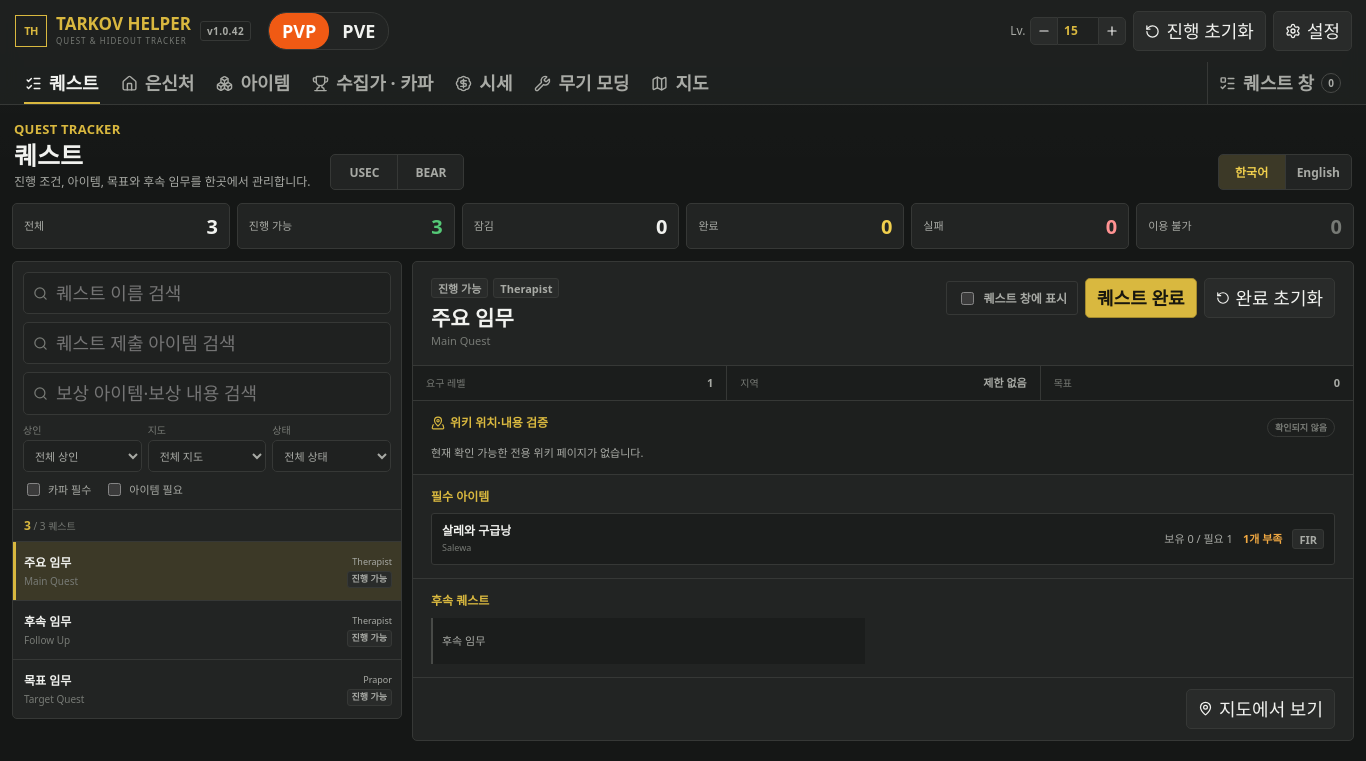
App related navigation › opens the exact non-default hideout station and source level
Click the tab "아이템" at [253, 83], box [205,62,301,104]
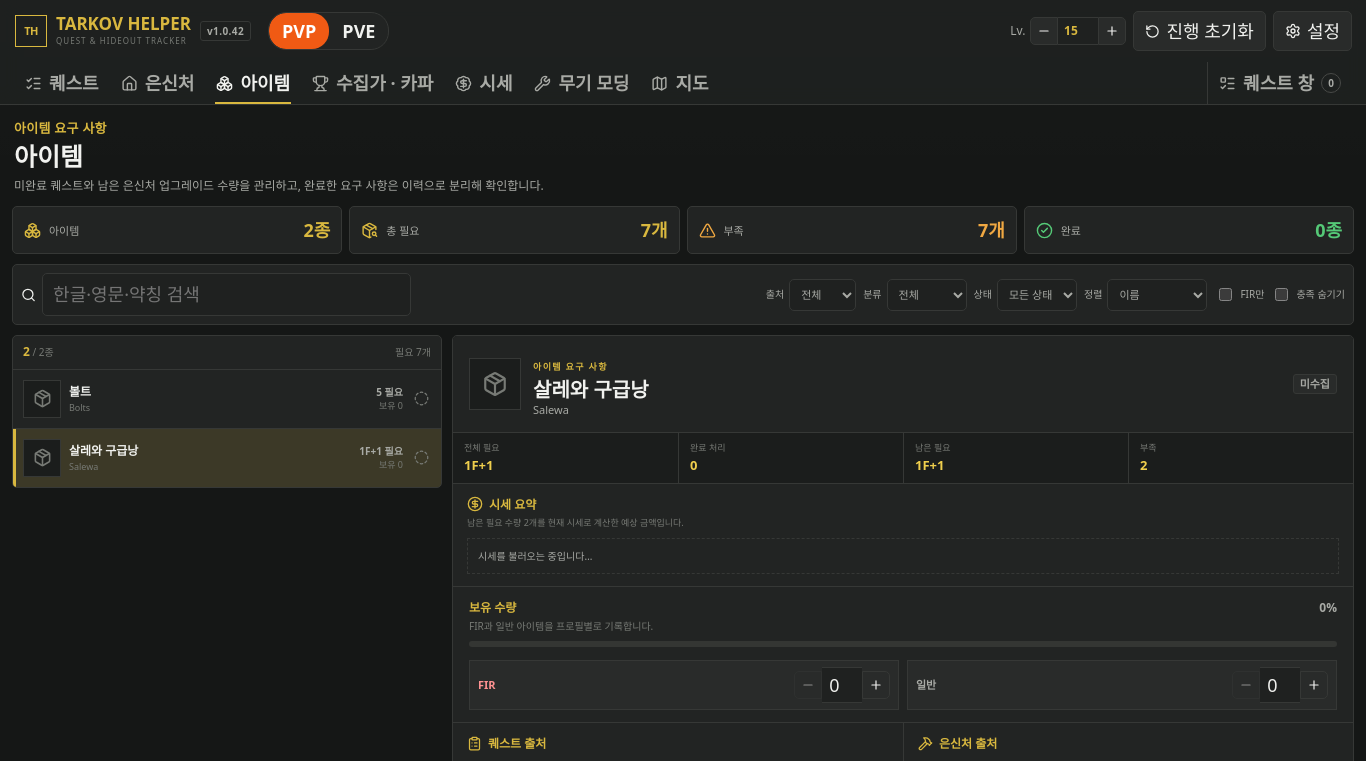
Click the button with aria-label "볼트 상세 보기" at [42, 399], box [13,370,441,428]
(page scrolled)
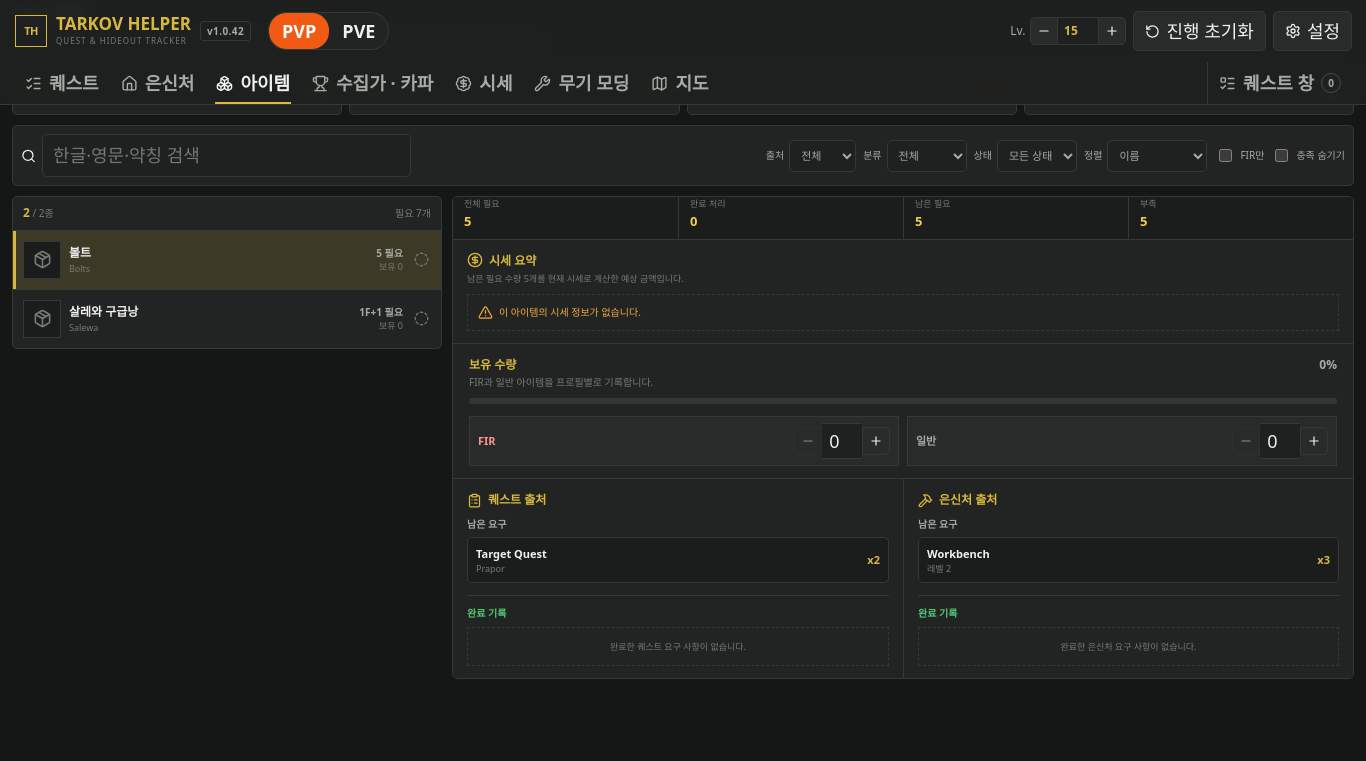
Click the button with aria-label "Workbench 은신처 열기" at [958, 553], box [918,537,1339,583]
(page scrolled)
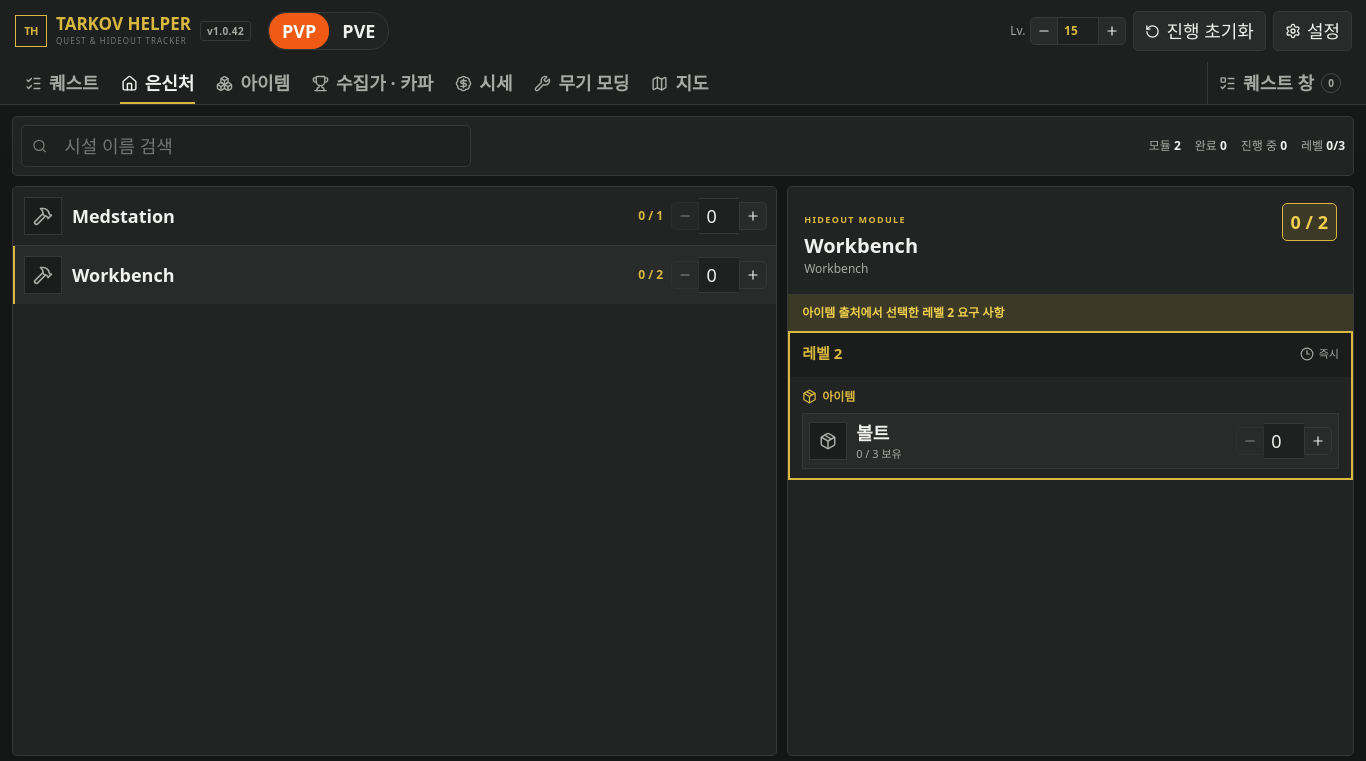
Check: the heading "Workbench" is shown, box [804,231,918,260]
Check: the heading "레벨 2" is shown, box [802,343,842,365]
